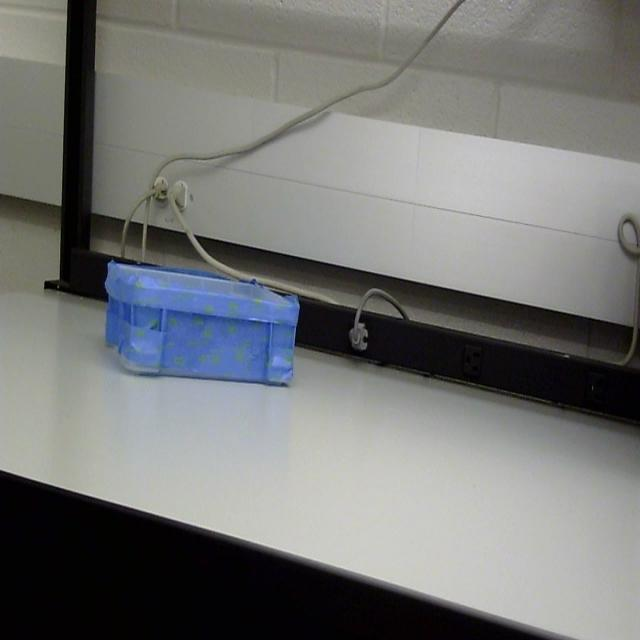bucket: (103, 257, 299, 390)
